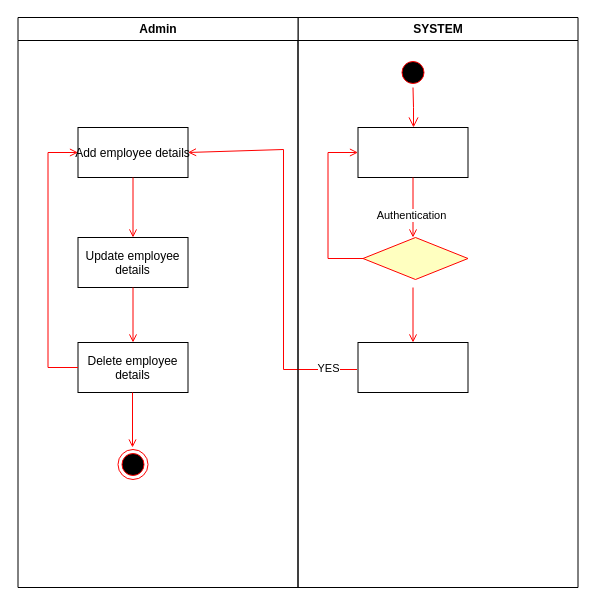
Some shapes in this 595 by 605 pixel diagram are drawn without their labels. Each missing label, with the centre of its shape:
Is Admin?: [412,367]
Log in: [412,152]
